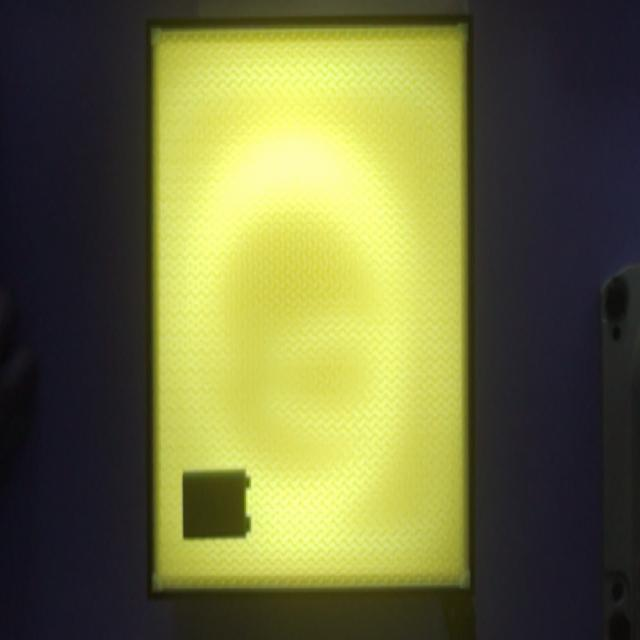bateria: (183, 470, 250, 537)
mesa: (147, 17, 474, 601)
